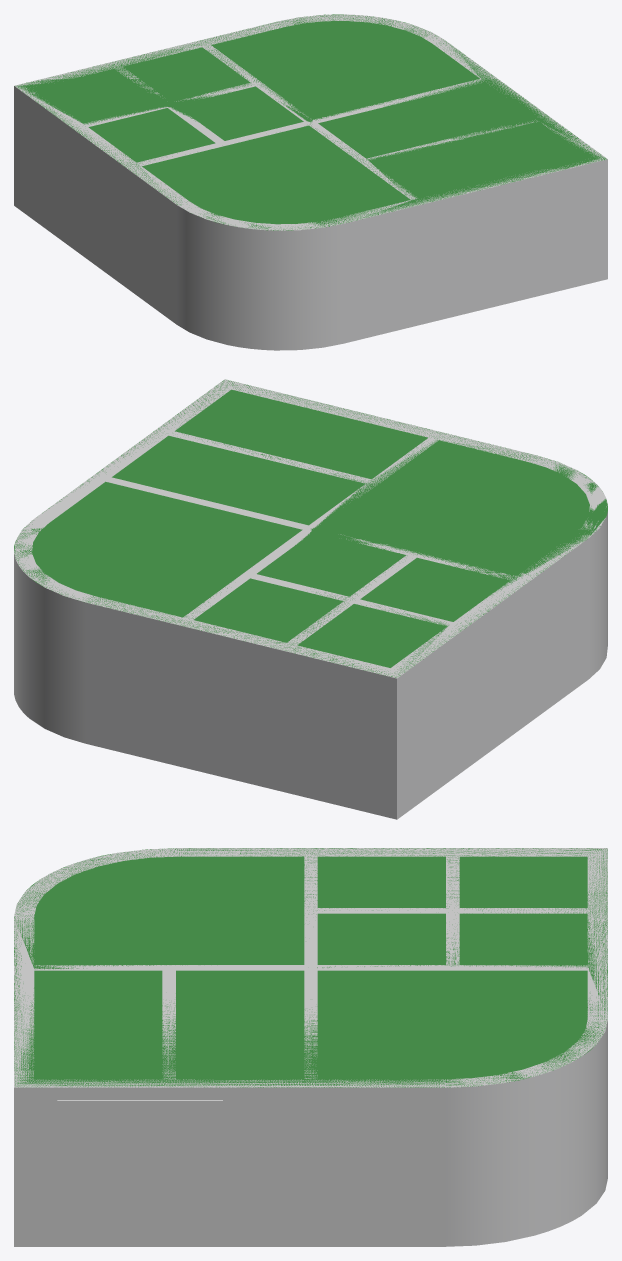
The model's file is Loopie v2.fbx.
3 renders of one model, top to bottom at view 1: azimuth 30°, elevation 25°; view 2: azimuth 150°, elevation 25°; view 3: azimuth 270°, elevation 25°, orthographic. The views are drawn at different scales.
Parts seen in each view (by area): view 1: Body12, Body13; view 2: Body12, Body13; view 3: Body13, Body12.
Boxes of the visible parts, x1,y1,x2,y2 form: Body12: (14, 14, 607, 350); Body13: (15, 14, 606, 230); Body12: (14, 379, 607, 819); Body13: (14, 380, 607, 677); Body13: (14, 848, 607, 1087); Body12: (14, 848, 607, 1246).
Size of the model in its own units: 422 by 130 by 440.
